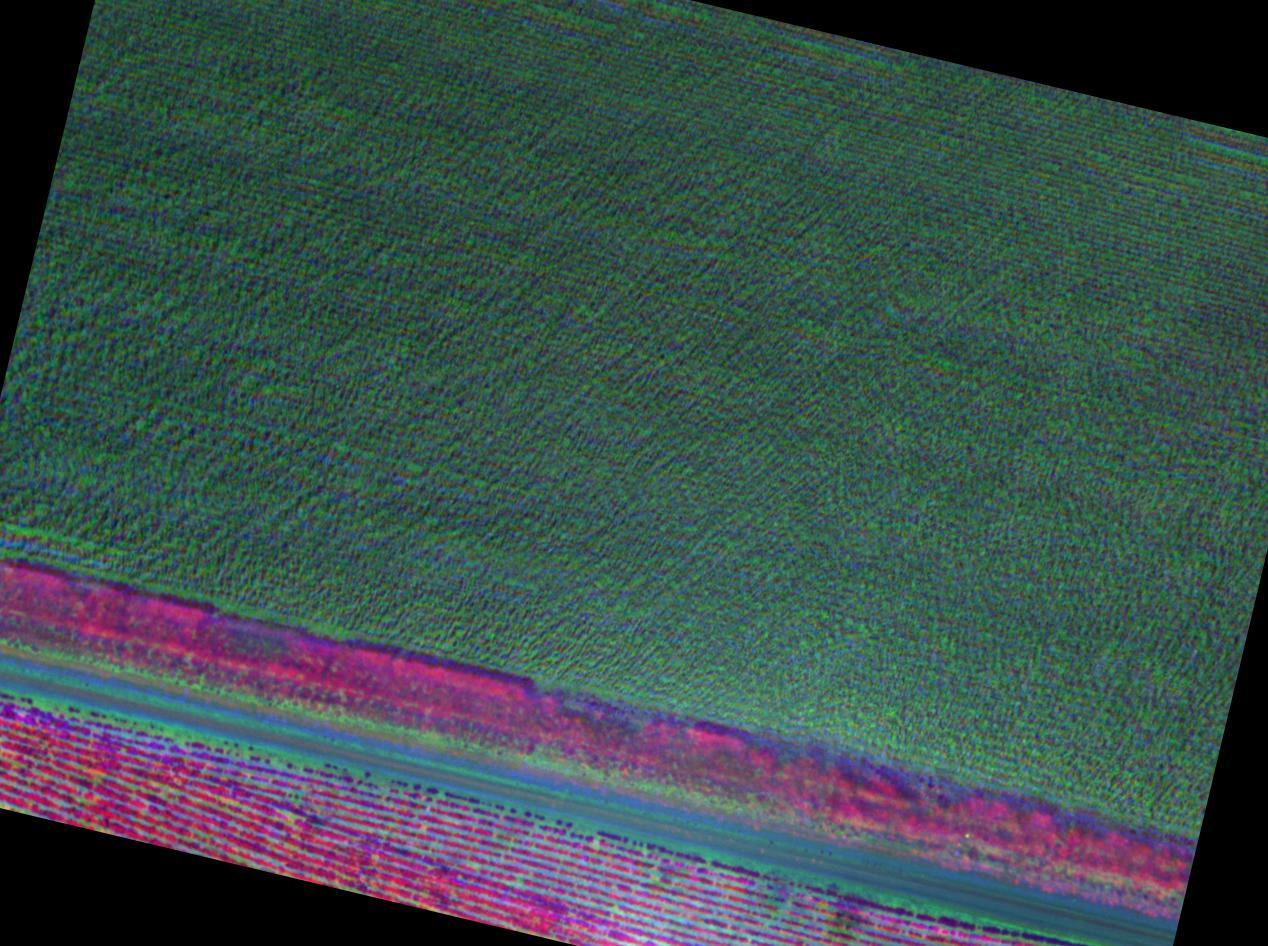dc: (802, 858, 891, 946)
